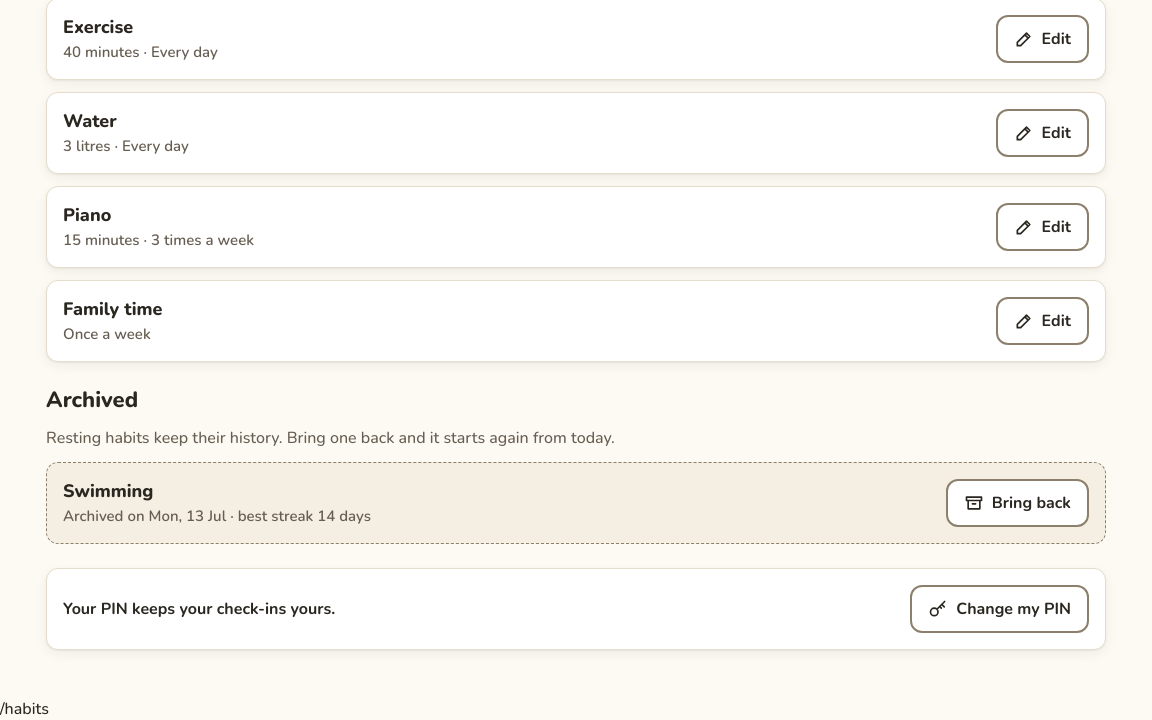
Test: REQ-009 edit, archive and bring back from My habits › Bring back moves a habit to Active and says its streak starts again
The width and height of the screenshot is (1152, 720).
(page scrolled)
Click the button named "Bring back Swimming".
click(1017, 503)  # box [946,479,1089,527]
(page scrolled)
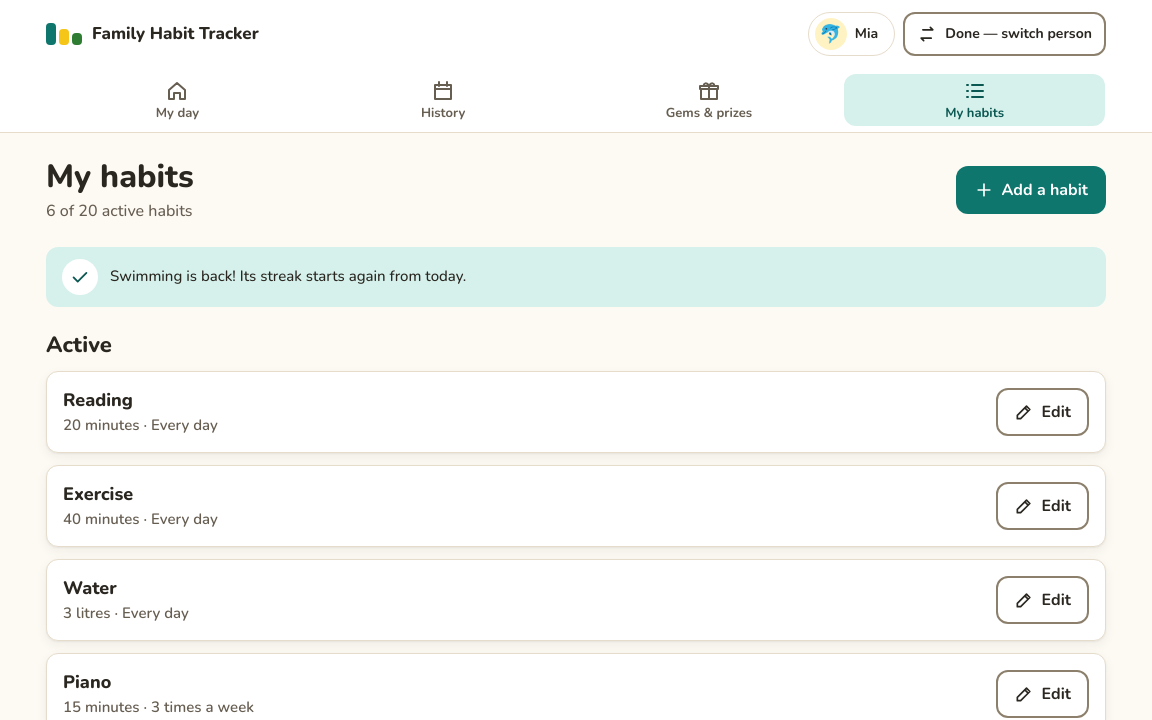
Result: the text "Swimming is back! Its streak starts again from today." is shown at [110,266,466,286]
Result: the text "6 of 20 active habits" is shown at [46,199,194,223]
